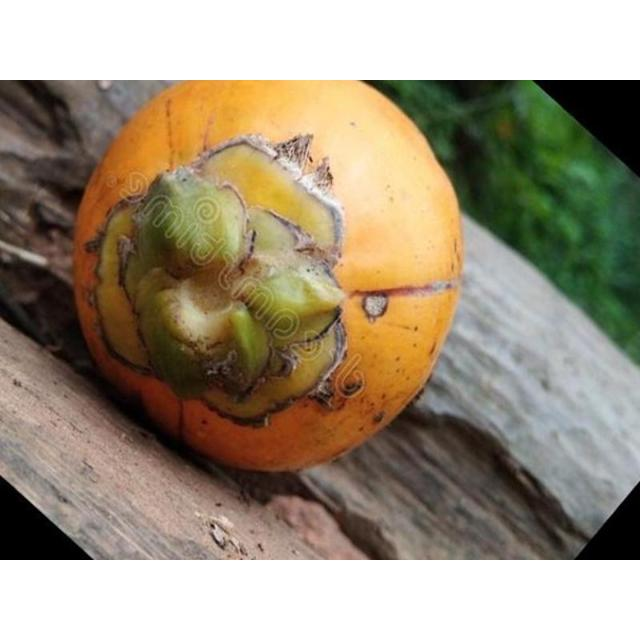good: (70, 80, 466, 477)
